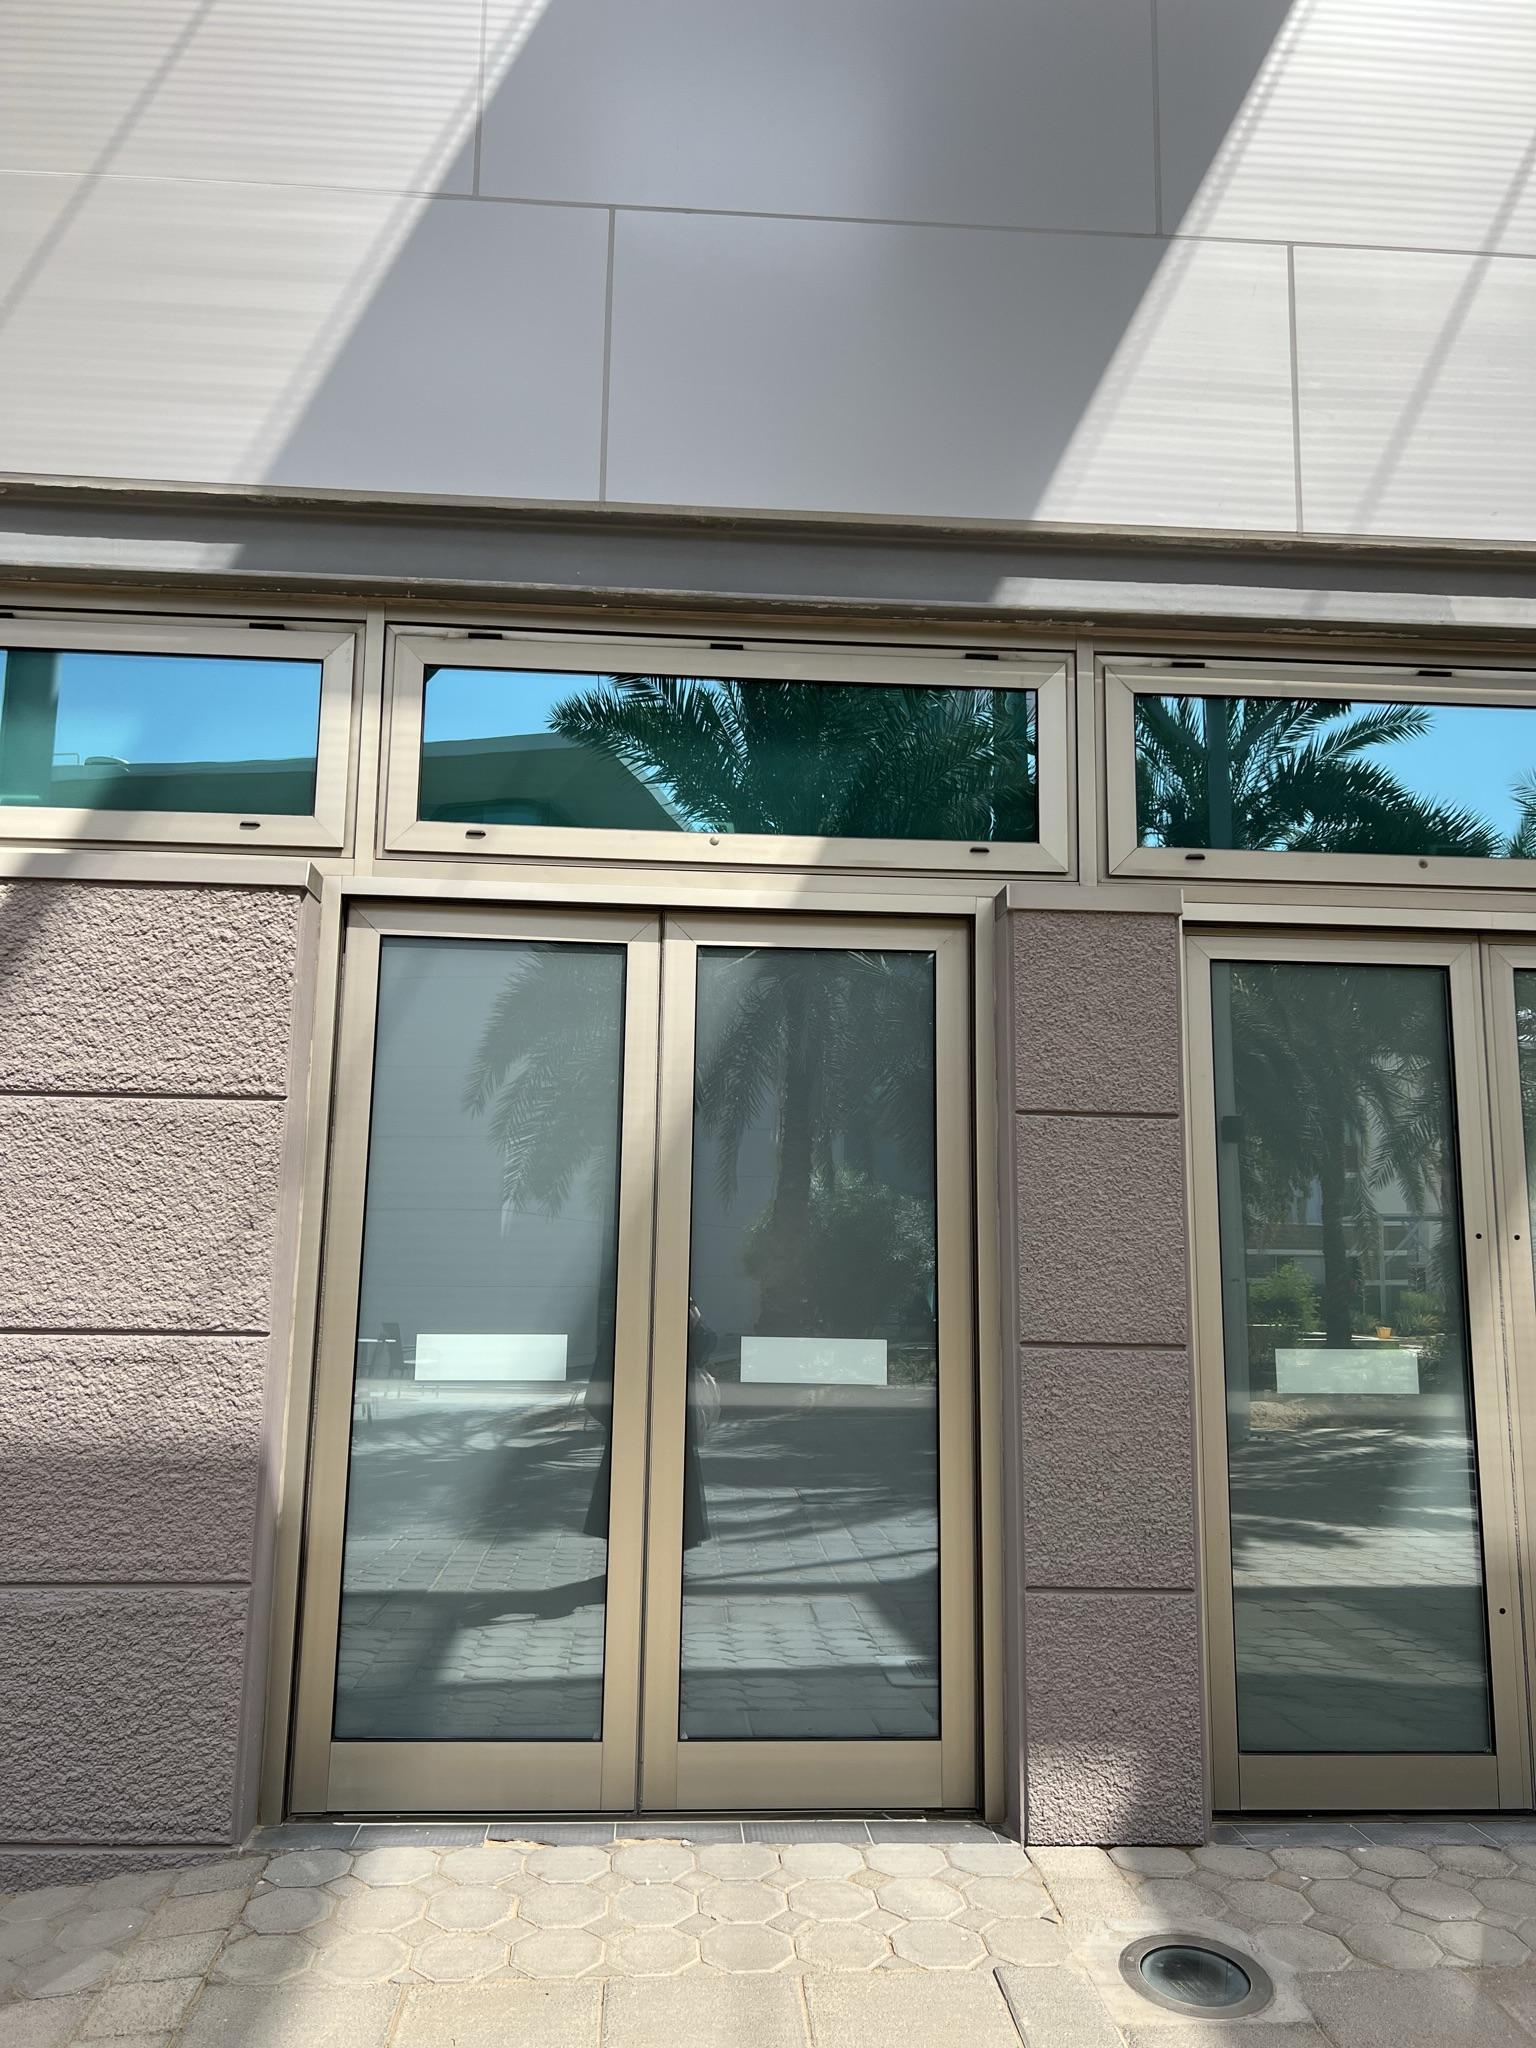door: (290, 901, 649, 1825), (628, 906, 970, 1809), (1220, 926, 1475, 1787)
